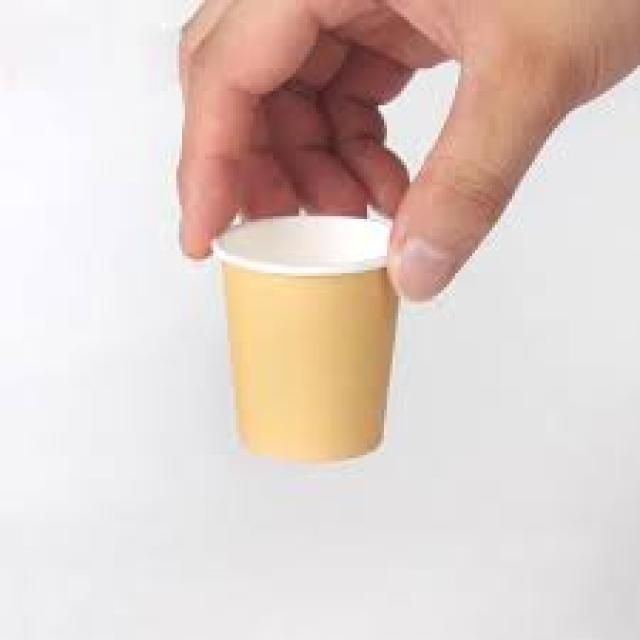PaperCardboard: (210, 213, 398, 457)
